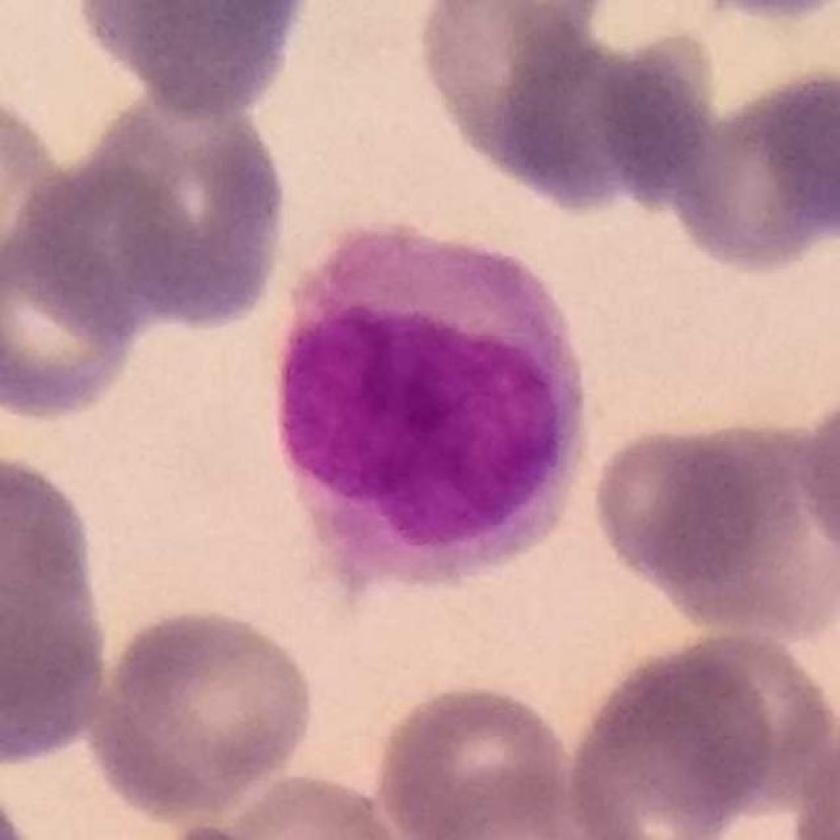monocyte: (280, 207, 600, 607)
